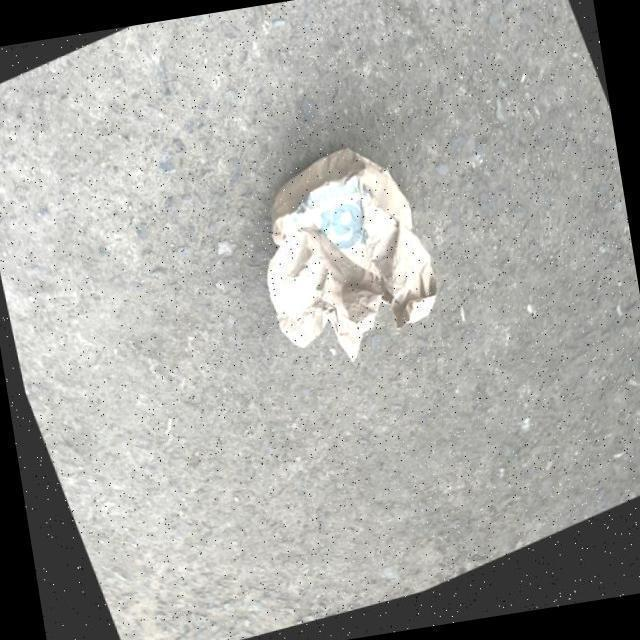Paper_Bag: (217, 130, 462, 400)
